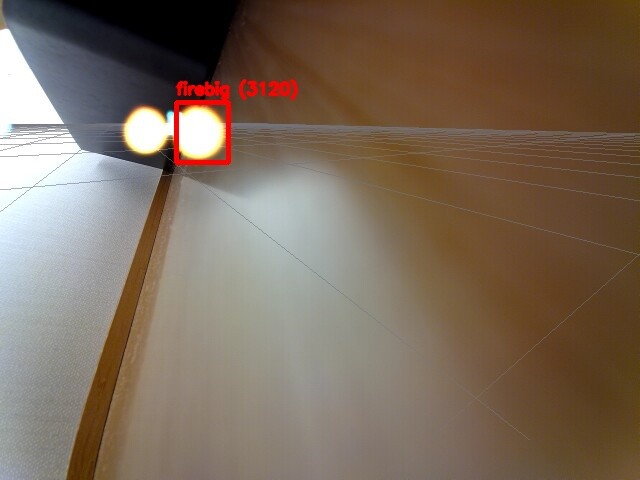firebig: (176, 102, 228, 162)
